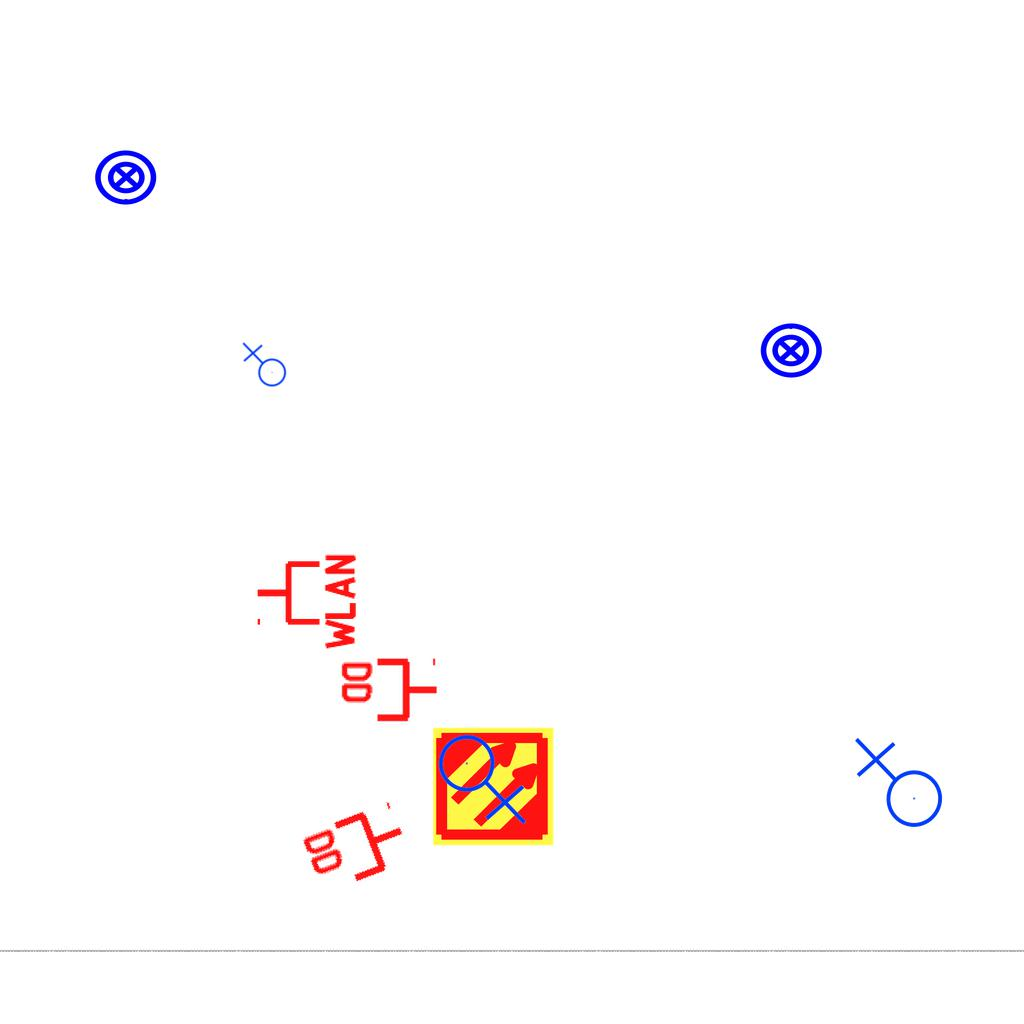ASR_Ansaugrauchmelder: (431, 724, 556, 849)
Datenanschluss_zweifach: (296, 798, 417, 901), (337, 657, 440, 726)
Elektroanschluss_allgemein_230V_Geraeteanschlussdose_230V: (850, 737, 944, 836), (437, 726, 531, 825), (239, 341, 288, 392)
Taster_beleuchtet: (758, 318, 824, 384), (93, 144, 159, 210)
WLAN: (253, 550, 358, 654)
